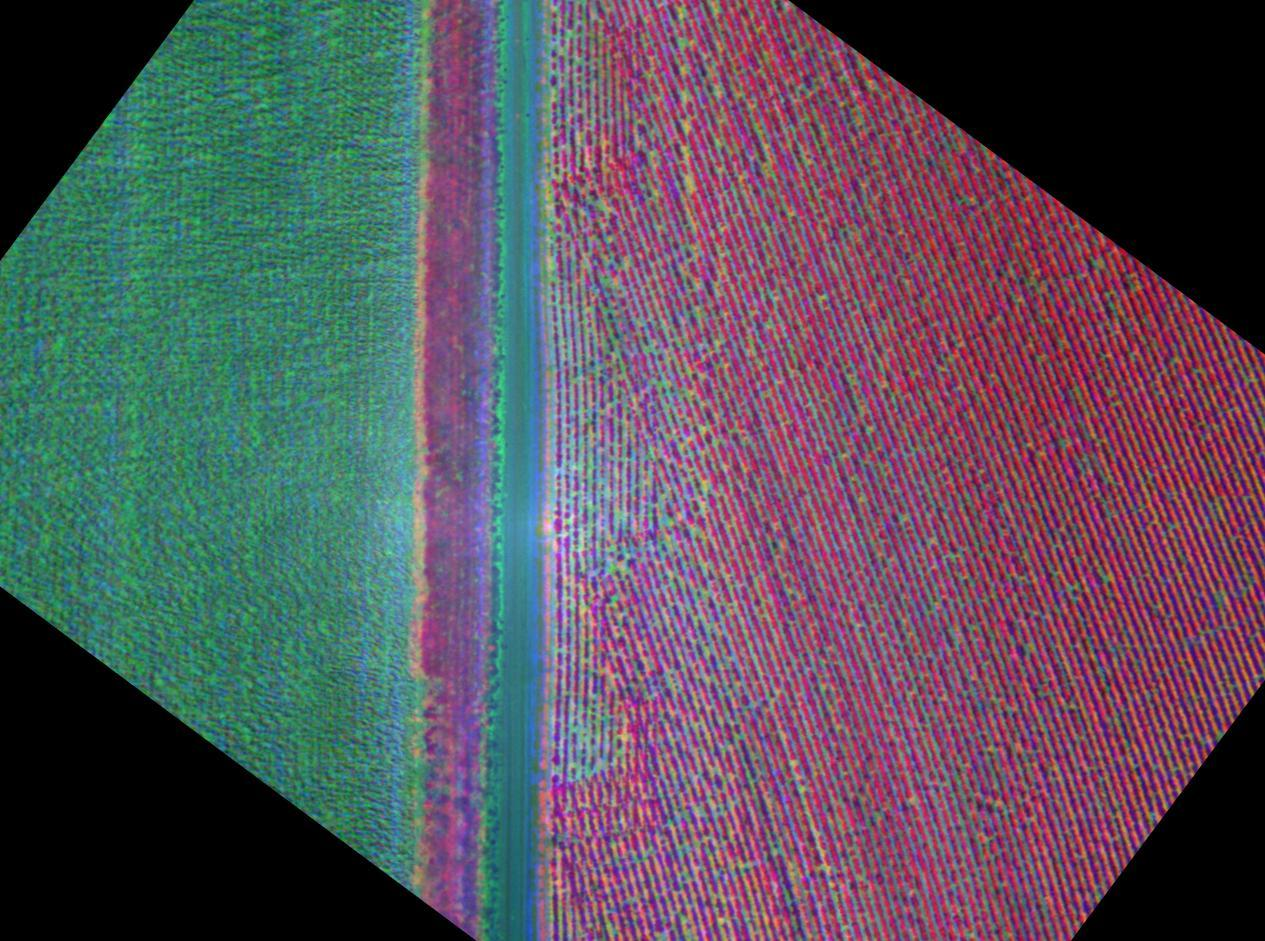dc: (686, 178, 691, 183), (576, 728, 580, 732), (597, 762, 601, 766), (762, 146, 767, 149), (695, 313, 700, 316), (685, 124, 689, 127), (604, 717, 607, 721), (678, 12, 681, 15), (703, 484, 706, 487), (1149, 814, 1152, 817)
